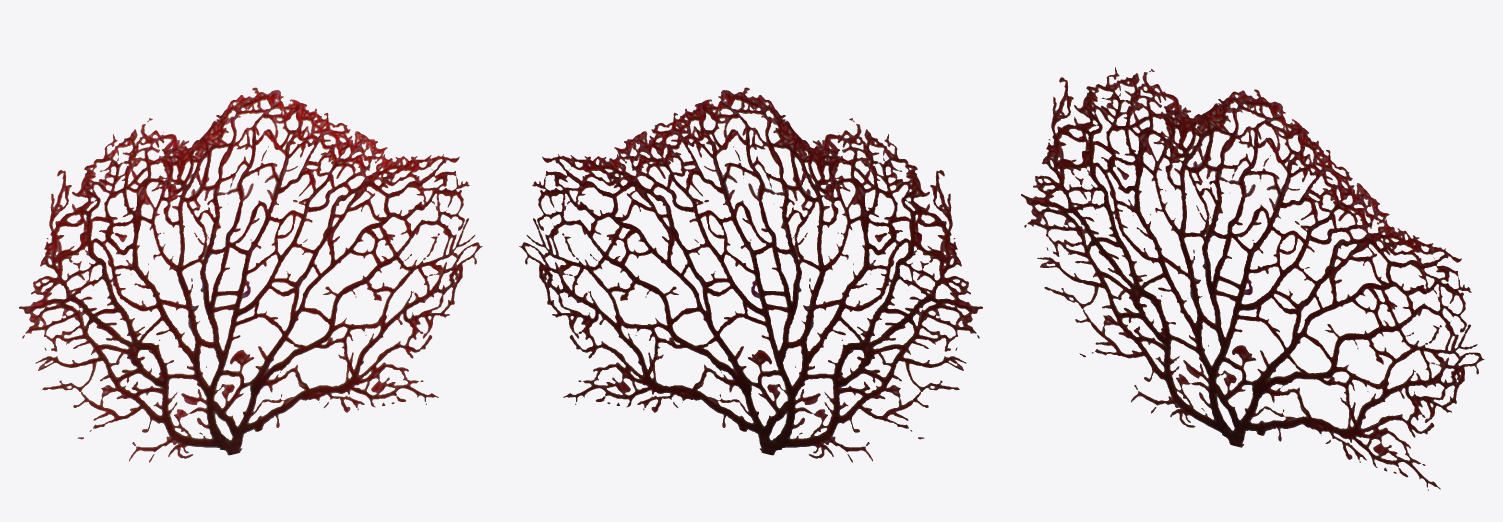
File: Coral_06.fbx
3 renders of one model, left to right at view 1: azimuth 30°, elevation 25°; view 2: azimuth 150°, elevation 25°; view 3: azimuth 330°, elevation 25°, orthographic.
Parts seen in each view (by area): view 1: pPlane88; view 2: pPlane88; view 3: pPlane88.
Boxes of the visible parts, bbox=[...] form: pPlane88: bbox=[19, 87, 482, 462]; pPlane88: bbox=[519, 87, 982, 462]; pPlane88: bbox=[1021, 67, 1484, 490].
Size of the model in its own units: 1.3 by 1 by 0.
